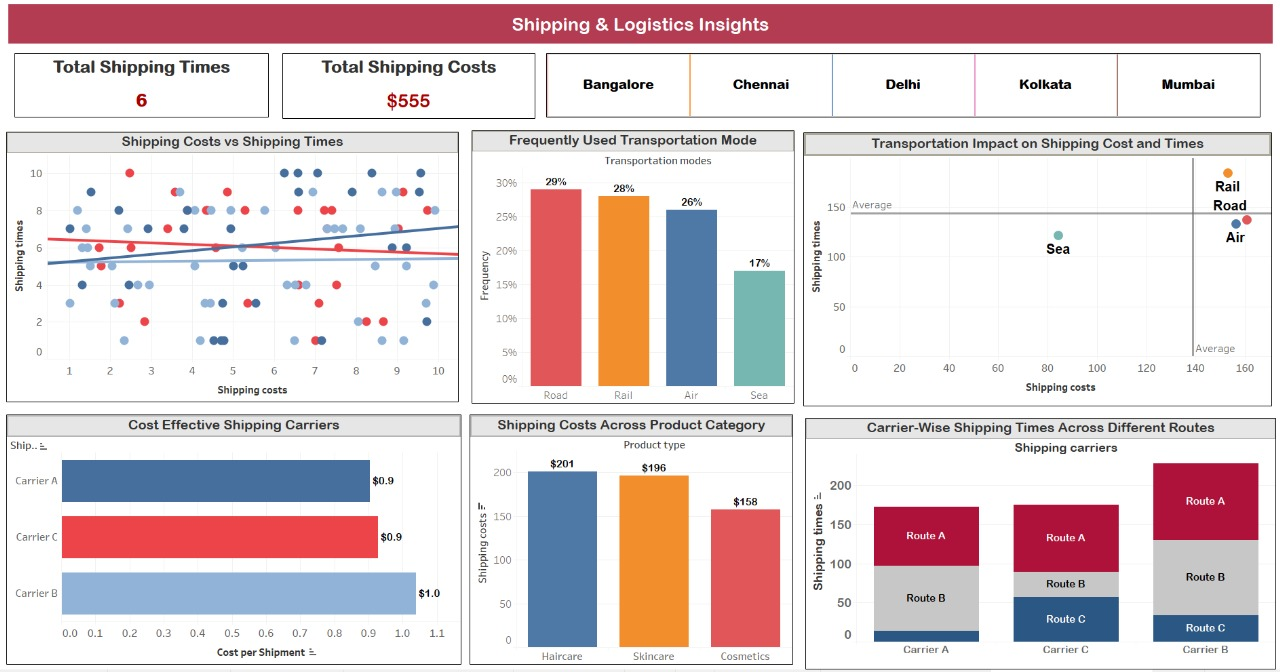

What the dashboard file says about the page in this screenshot:
{"tool":"tableau","page":{"name":"Shipping & Logistics Insights","canvas":[1000,1000],"units":"permille","ordinal":4},"visuals":[{"type":"text","box":[6,12.5,971,58.7]},{"type":"worksheet","title":"Total Shipping Times","mark":"Automatic","box":[10.9,84.9,195.5,96.1]},{"type":"worksheet","title":"Total Shipping Costs","mark":"Automatic","box":[216.7,84.9,194.3,97.4]},{"type":"worksheet","title":"Regions","mark":"GanttBar","cols":["Location"],"box":[419.4,84.9,548.6,96.1]},{"type":"worksheet","title":"Transportation Impact on Shipping Cost and Times","mark":"Automatic","rows":["Shipping times"],"cols":["Shipping costs"],"box":[616.8,198.5,359.7,405.7]},{"type":"worksheet","title":"Frequently Used Transportation Mode","mark":"Automatic","rows":["Calculation_1829868885253992450"],"cols":["Transportation modes"],"box":[362.1,199.8,248,405.7]},{"type":"worksheet","title":"Shipping Costs vs Shipping Times","mark":"Automatic","rows":["Shipping times"],"cols":["Shipping costs"],"box":[4.8,201,347.6,402]},{"type":"legend","title":"Shipping Costs vs Shipping Times","param":"[federated.08ssd4x013gij215j9kym1rdqcrj].[sum:Shipping costs:qk]","box":[293.9,298.4,84.5,132.3]},{"type":"worksheet","title":"Cost Effective Shipping Carriers","mark":"Automatic","rows":["Shipping carriers"],"cols":["Calculation_1368812870256603140"],"box":[4.8,621.7,347,372]},{"type":"worksheet","title":"Shipping Costs Across Product Category","mark":"Automatic","rows":["Shipping costs"],"cols":["Product type"],"box":[360.3,621.7,248.6,372]},{"type":"worksheet","title":"Carrier-Wise Shipping Times Across Different Routes","mark":"Automatic","rows":["Shipping times"],"cols":["Shipping carriers"],"box":[617.4,621.7,358.5,373.3]}]}

Visuals, with their boxes on the dashboard's canvas, which has no fixed pixel size, in thousandths of its width and height (x1, y1, x2, y2). These are canvas units, not pixel positions in the 1280x672 screenshot, which may show the page scaled, cropped or inside an application window:
text: 6:12:977:71
"Total Shipping Times" worksheet: 11:85:206:181
"Total Shipping Costs" worksheet: 217:85:411:182
"Regions" worksheet (GanttBar marks): 419:85:968:181
"Transportation Impact on Shipping Cost and Times" worksheet: 617:198:976:604
"Frequently Used Transportation Mode" worksheet: 362:200:610:606
"Shipping Costs vs Shipping Times" worksheet: 5:201:352:603
"Shipping Costs vs Shipping Times" legend: 294:298:378:431
"Cost Effective Shipping Carriers" worksheet: 5:622:352:994
"Shipping Costs Across Product Category" worksheet: 360:622:609:994
"Carrier-Wise Shipping Times Across Different Routes" worksheet: 617:622:976:995
